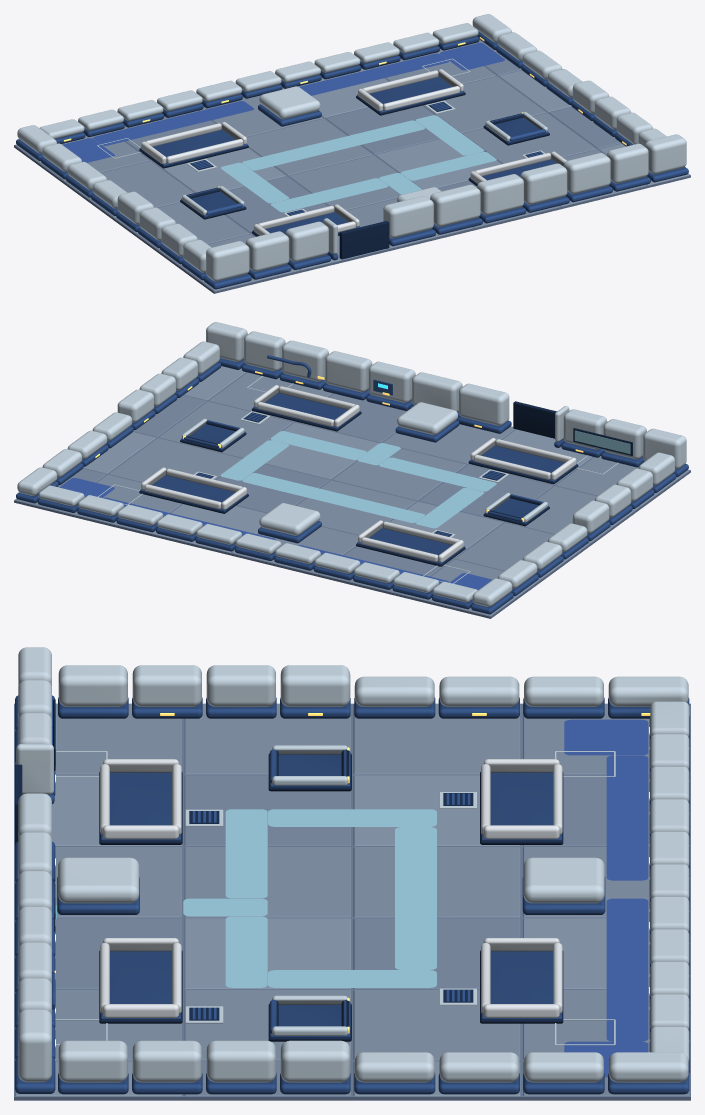
The model's file is CryoSoftRoom_cryo-b.fbx.
The picture shows the model from 3 angles, top to bottom: view 1: azimuth 30°, elevation 25°; view 2: azimuth 150°, elevation 25°; view 3: azimuth 270°, elevation 25°; orthographic projection. The views are drawn at different scales.
Parts seen in each view (by area): view 1: SC_wall_Soft_Ivory, SC_floor_Soft_Floor, SC_wall_Soft_Blue, SC_floor_Soft_FloorLight, SC_marking_Soft_Ice, SC_floor_Soft_FloorShade, SC_marking_Soft_Dock, SC_obstacle_Soft_White, SC_obstacle_Soft_Blue, SC_floor_Soft_Seam, SC_wall_Soft_Navy, SC_obstacle_Soft_Navy (+2 smaller); view 2: SC_wall_Soft_Ivory, SC_floor_Soft_Floor, SC_wall_Soft_Blue, SC_floor_Soft_FloorLight, SC_floor_Soft_FloorShade, SC_marking_Soft_Ice, SC_obstacle_Soft_White, SC_obstacle_Soft_Blue, SC_floor_Soft_Seam, SC_marking_Soft_Dock, SC_obstacle_Soft_Navy, SC_wall_Soft_Navy (+3 smaller); view 3: SC_wall_Soft_Ivory, SC_floor_Soft_Floor, SC_floor_Soft_FloorShade, SC_floor_Soft_FloorLight, SC_wall_Soft_Blue, SC_marking_Soft_Ice, SC_obstacle_Soft_Blue, SC_marking_Soft_Dock, SC_obstacle_Soft_White, SC_floor_Soft_Seam, SC_obstacle_Soft_Navy, SC_obstacle_Soft_Ivory (+3 smaller).
Boxes of the visible parts, x1,y1,x2,y2 form: SC_wall_Soft_Ivory: (17, 14, 686, 281); SC_floor_Soft_Floor: (15, 47, 646, 290); SC_wall_Soft_Blue: (16, 31, 688, 289); SC_floor_Soft_FloorLight: (152, 68, 689, 269); SC_marking_Soft_Ice: (221, 115, 496, 212); SC_floor_Soft_FloorShade: (112, 39, 620, 233); SC_marking_Soft_Dock: (62, 43, 504, 162); SC_obstacle_Soft_White: (141, 69, 566, 235); SC_obstacle_Soft_Blue: (140, 77, 557, 235); SC_floor_Soft_Seam: (14, 47, 690, 293); SC_wall_Soft_Navy: (339, 221, 389, 259); SC_obstacle_Soft_Navy: (139, 92, 549, 236); SC_wall_Soft_Ivory: (17, 322, 686, 606); SC_floor_Soft_Floor: (58, 372, 689, 616); SC_wall_Soft_Blue: (16, 355, 688, 614); SC_floor_Soft_FloorLight: (83, 366, 592, 558); SC_floor_Soft_FloorShade: (15, 393, 552, 594); SC_marking_Soft_Ice: (220, 431, 496, 528); SC_obstacle_Soft_White: (141, 385, 576, 562); SC_obstacle_Soft_Blue: (140, 392, 577, 564); SC_floor_Soft_Seam: (14, 372, 690, 618); SC_marking_Soft_Dock: (59, 478, 492, 589); SC_obstacle_Soft_Navy: (139, 408, 578, 566); SC_wall_Soft_Navy: (513, 401, 632, 455); SC_wall_Soft_Ivory: (16, 647, 689, 1082); SC_floor_Soft_Floor: (55, 703, 689, 1060); SC_floor_Soft_FloorShade: (55, 775, 689, 1096); SC_floor_Soft_FloorLight: (15, 775, 649, 1096); SC_wall_Soft_Blue: (15, 695, 689, 1094); SC_marking_Soft_Ice: (183, 809, 436, 987); SC_obstacle_Soft_Blue: (100, 749, 561, 1037); SC_marking_Soft_Dock: (564, 719, 648, 1077); SC_obstacle_Soft_White: (100, 759, 562, 1017); SC_floor_Soft_Seam: (14, 703, 690, 1100); SC_obstacle_Soft_Navy: (99, 753, 563, 1041); SC_obstacle_Soft_Ivory: (272, 745, 348, 1035).
Bounding box in the file's own units: 4400 × 334 × 3200.
